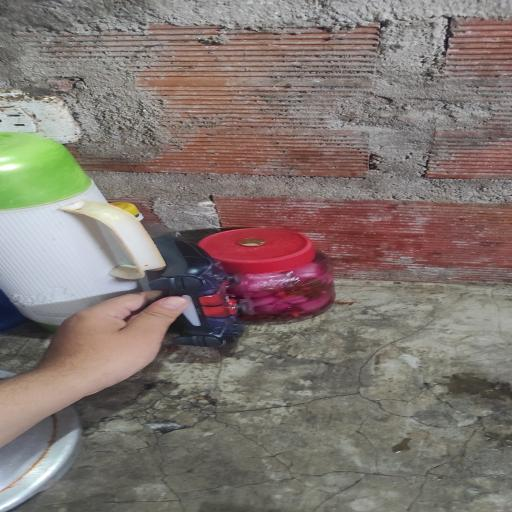ControlPlay4: (149, 235, 243, 346)
